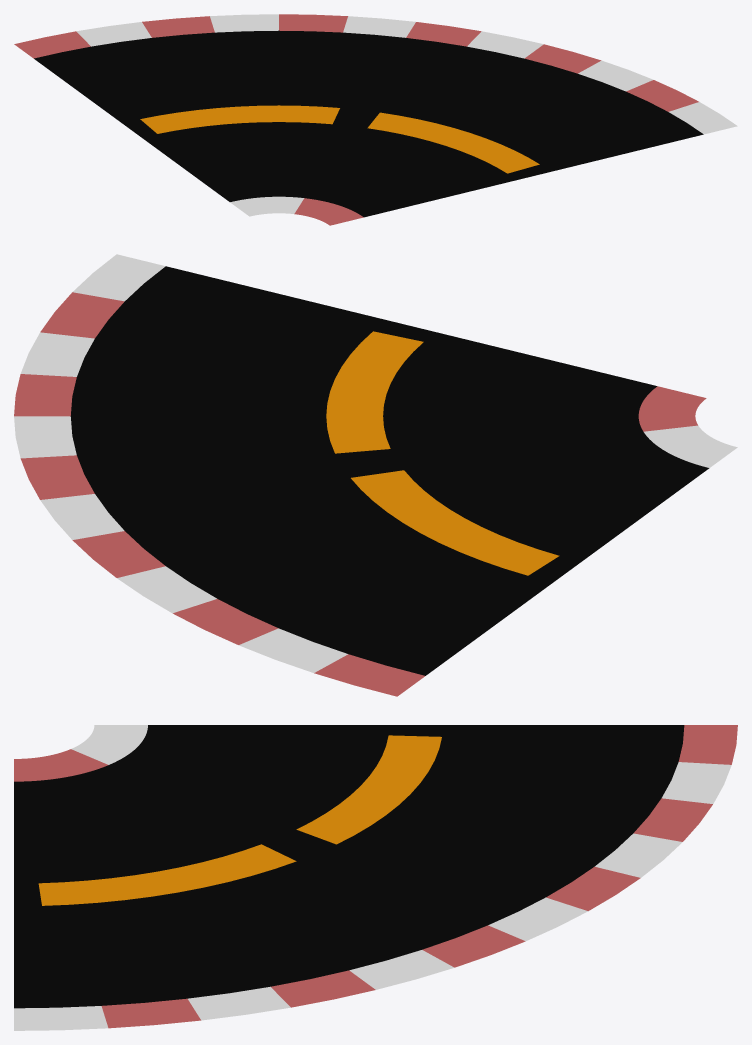
Rendered from Just Track Corner.fbx.
3 renders of one model, top to bottom at view 1: azimuth 30°, elevation 25°; view 2: azimuth 150°, elevation 25°; view 3: azimuth 270°, elevation 25°, orthographic. The views are drawn at different scales.
Visible parts, largest first — view 1: Just Track Corner; view 2: Just Track Corner; view 3: Just Track Corner.
Part boxes in pixels (left/top/right/bottom): Just Track Corner: left=14, top=14, right=737, bottom=225; Just Track Corner: left=14, top=254, right=737, bottom=696; Just Track Corner: left=14, top=725, right=737, bottom=1030.
Bounding box in the file's own units: 2.7 × 0 × 2.7.
